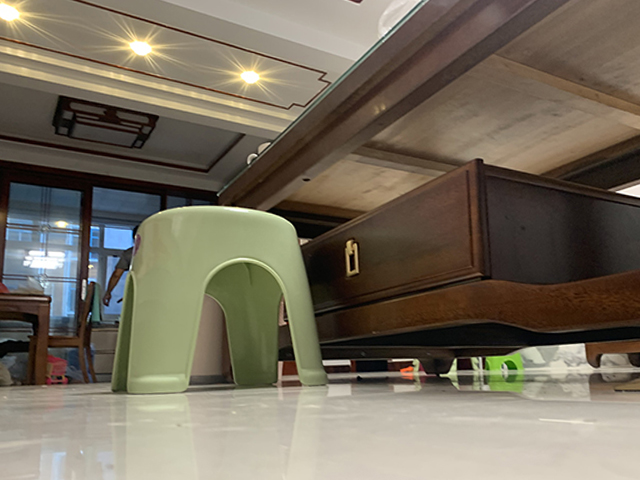stool: (108, 204, 330, 395), (48, 279, 99, 383), (483, 353, 525, 373)
table: (217, 1, 640, 378), (1, 291, 52, 387)
